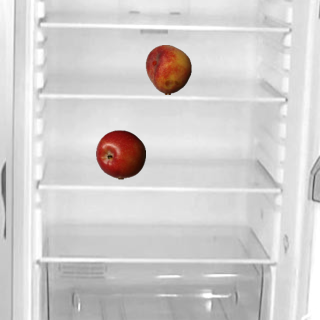Apple Braeburn: (95, 129, 145, 179)
Peach: (143, 44, 193, 94)
